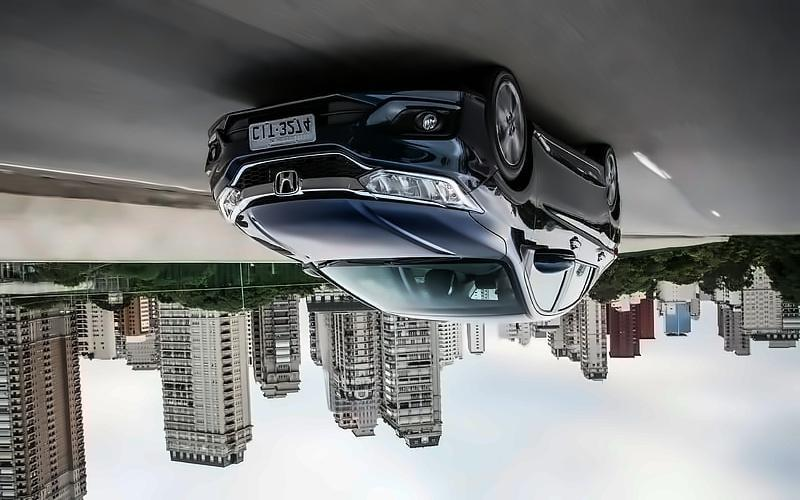Car hood: (228, 198, 510, 263)
Driver-s door - -F-R-: (516, 113, 592, 327)
Fender - -F-R-: (467, 147, 543, 267)
Front bumper: (201, 87, 503, 197)
Headlight - -L-: (214, 186, 244, 227)
Headlight - -R-: (357, 168, 486, 213)
Passenger-s door - -R-R-: (539, 135, 615, 324)
Side bumper - -R-: (528, 114, 616, 194)
Side mirror - -R-: (521, 233, 578, 276)
